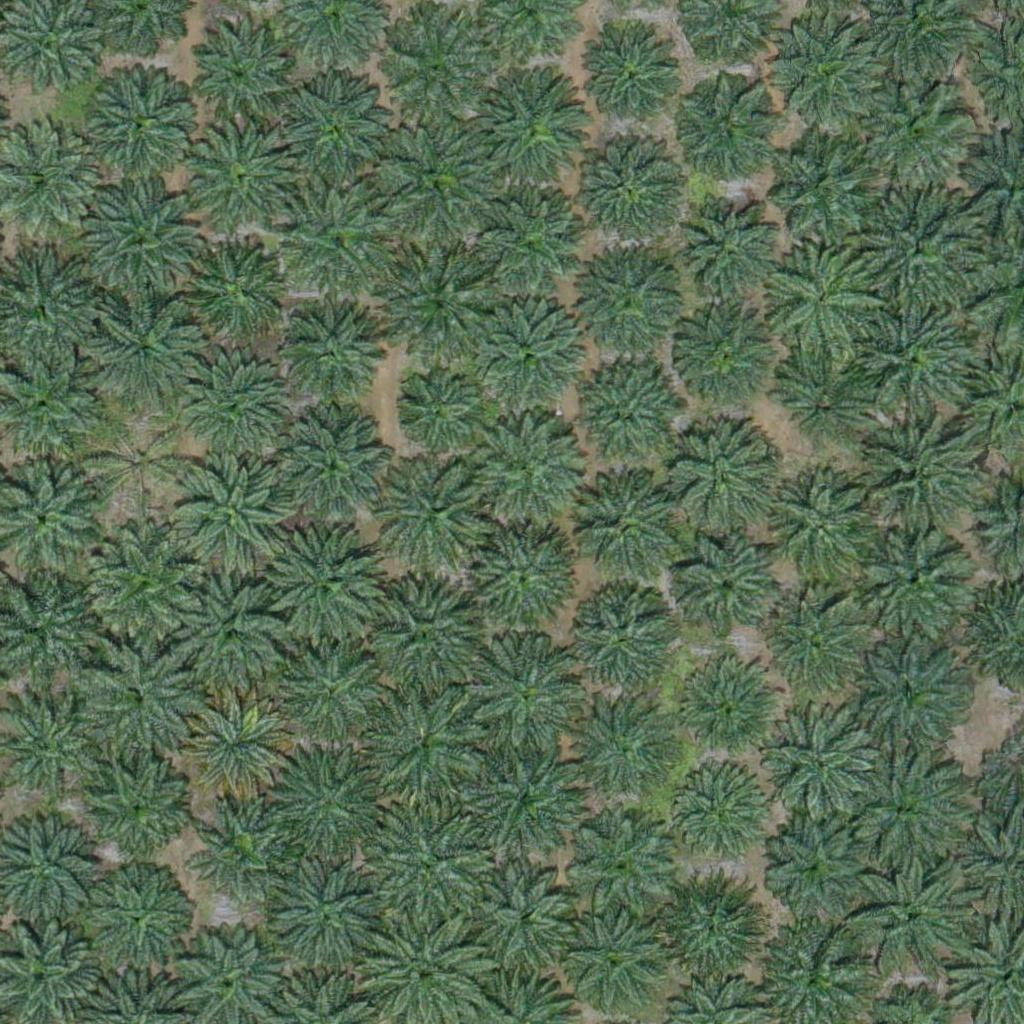Kelapa_Sawit: (855, 190, 980, 316), (463, 187, 588, 313), (377, 244, 502, 370), (839, 750, 964, 876), (849, 846, 974, 972), (361, 685, 486, 811), (367, 804, 492, 930), (849, 411, 974, 536), (470, 70, 583, 184), (472, 522, 585, 636), (378, 456, 491, 570), (464, 637, 577, 751), (182, 119, 295, 233), (277, 409, 390, 523), (772, 16, 885, 129), (378, 14, 491, 127), (191, 19, 304, 132), (84, 65, 197, 178), (857, 76, 970, 189), (766, 476, 879, 589), (669, 305, 782, 418), (664, 427, 777, 540), (571, 135, 684, 248), (572, 248, 685, 361), (852, 631, 965, 744), (761, 707, 874, 820), (555, 903, 668, 1016), (469, 862, 582, 975), (471, 743, 584, 856), (364, 581, 477, 694), (265, 526, 378, 639), (86, 527, 199, 640), (280, 179, 393, 292), (180, 692, 293, 805), (82, 645, 195, 758), (78, 750, 191, 863), (655, 868, 767, 982), (561, 804, 673, 918), (86, 180, 198, 294), (181, 357, 293, 471), (282, 70, 394, 183), (859, 301, 971, 414), (862, 527, 974, 640), (769, 135, 881, 248), (570, 366, 682, 479), (567, 474, 679, 587), (471, 302, 583, 415), (470, 413, 582, 526), (379, 124, 491, 237), (277, 636, 389, 749), (267, 745, 379, 858), (267, 856, 379, 969), (88, 292, 200, 405), (173, 576, 285, 689), (174, 454, 286, 567), (89, 414, 189, 515), (772, 252, 872, 353), (778, 346, 878, 447), (766, 593, 866, 694), (672, 82, 772, 183), (683, 199, 783, 300), (674, 533, 774, 634), (88, 870, 188, 971), (585, 31, 685, 131), (569, 587, 669, 687), (769, 815, 869, 915), (674, 659, 774, 759), (670, 766, 770, 866), (575, 698, 675, 798), (184, 241, 284, 341), (283, 299, 383, 399), (198, 807, 285, 896), (397, 375, 472, 451)
